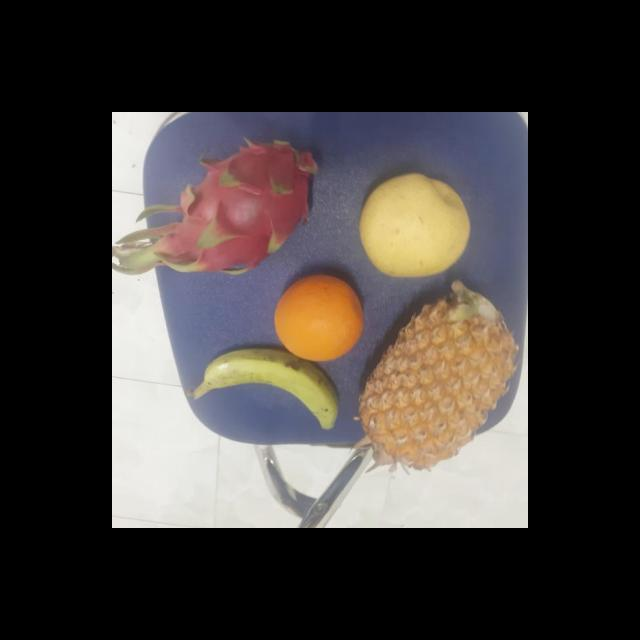banana: (200, 348, 346, 440)
orange: (272, 274, 366, 360)
pear: (356, 172, 476, 278)
pineapple: (359, 288, 520, 464)
pitaya: (161, 138, 326, 276)
